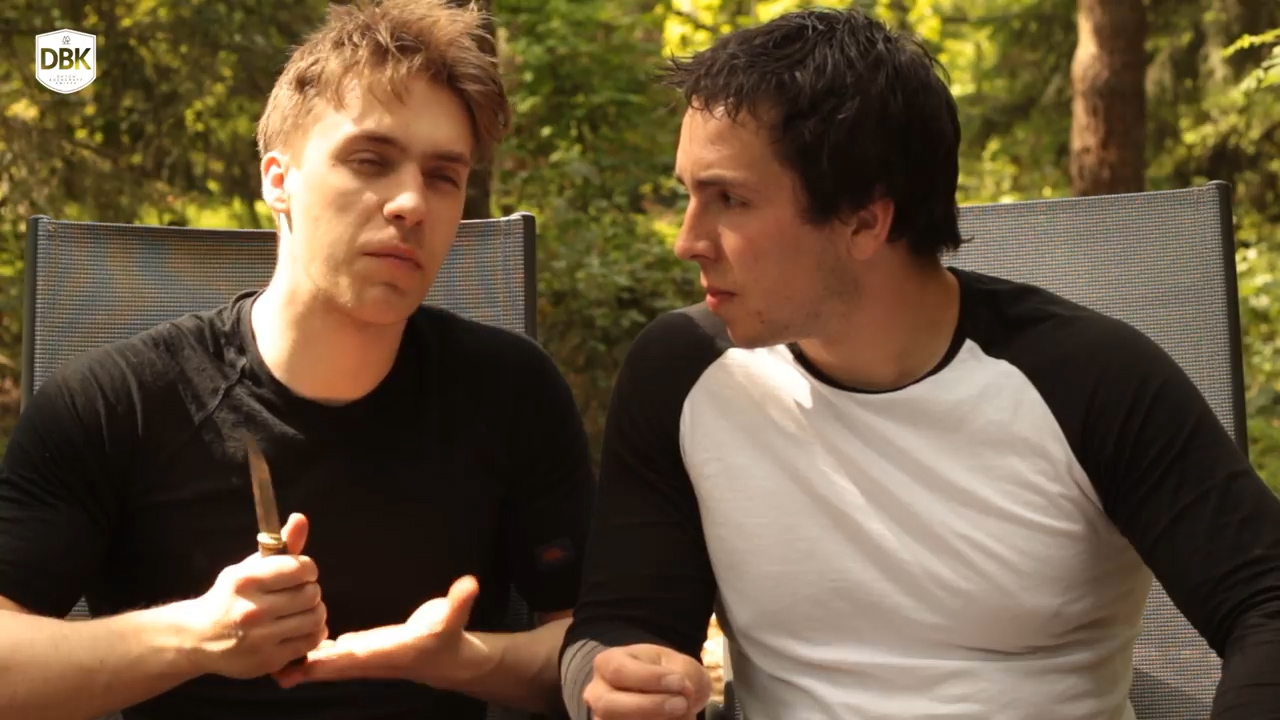knife: (215, 411, 332, 611)
